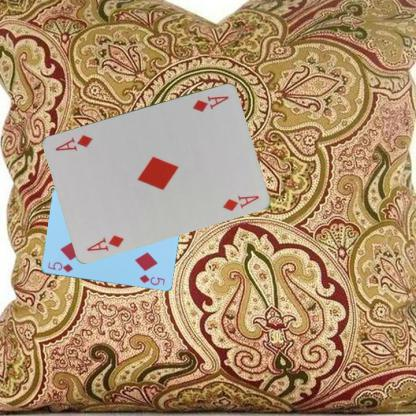5d: (45, 260, 74, 274)
Ad: (189, 92, 230, 113), (84, 232, 126, 252)
